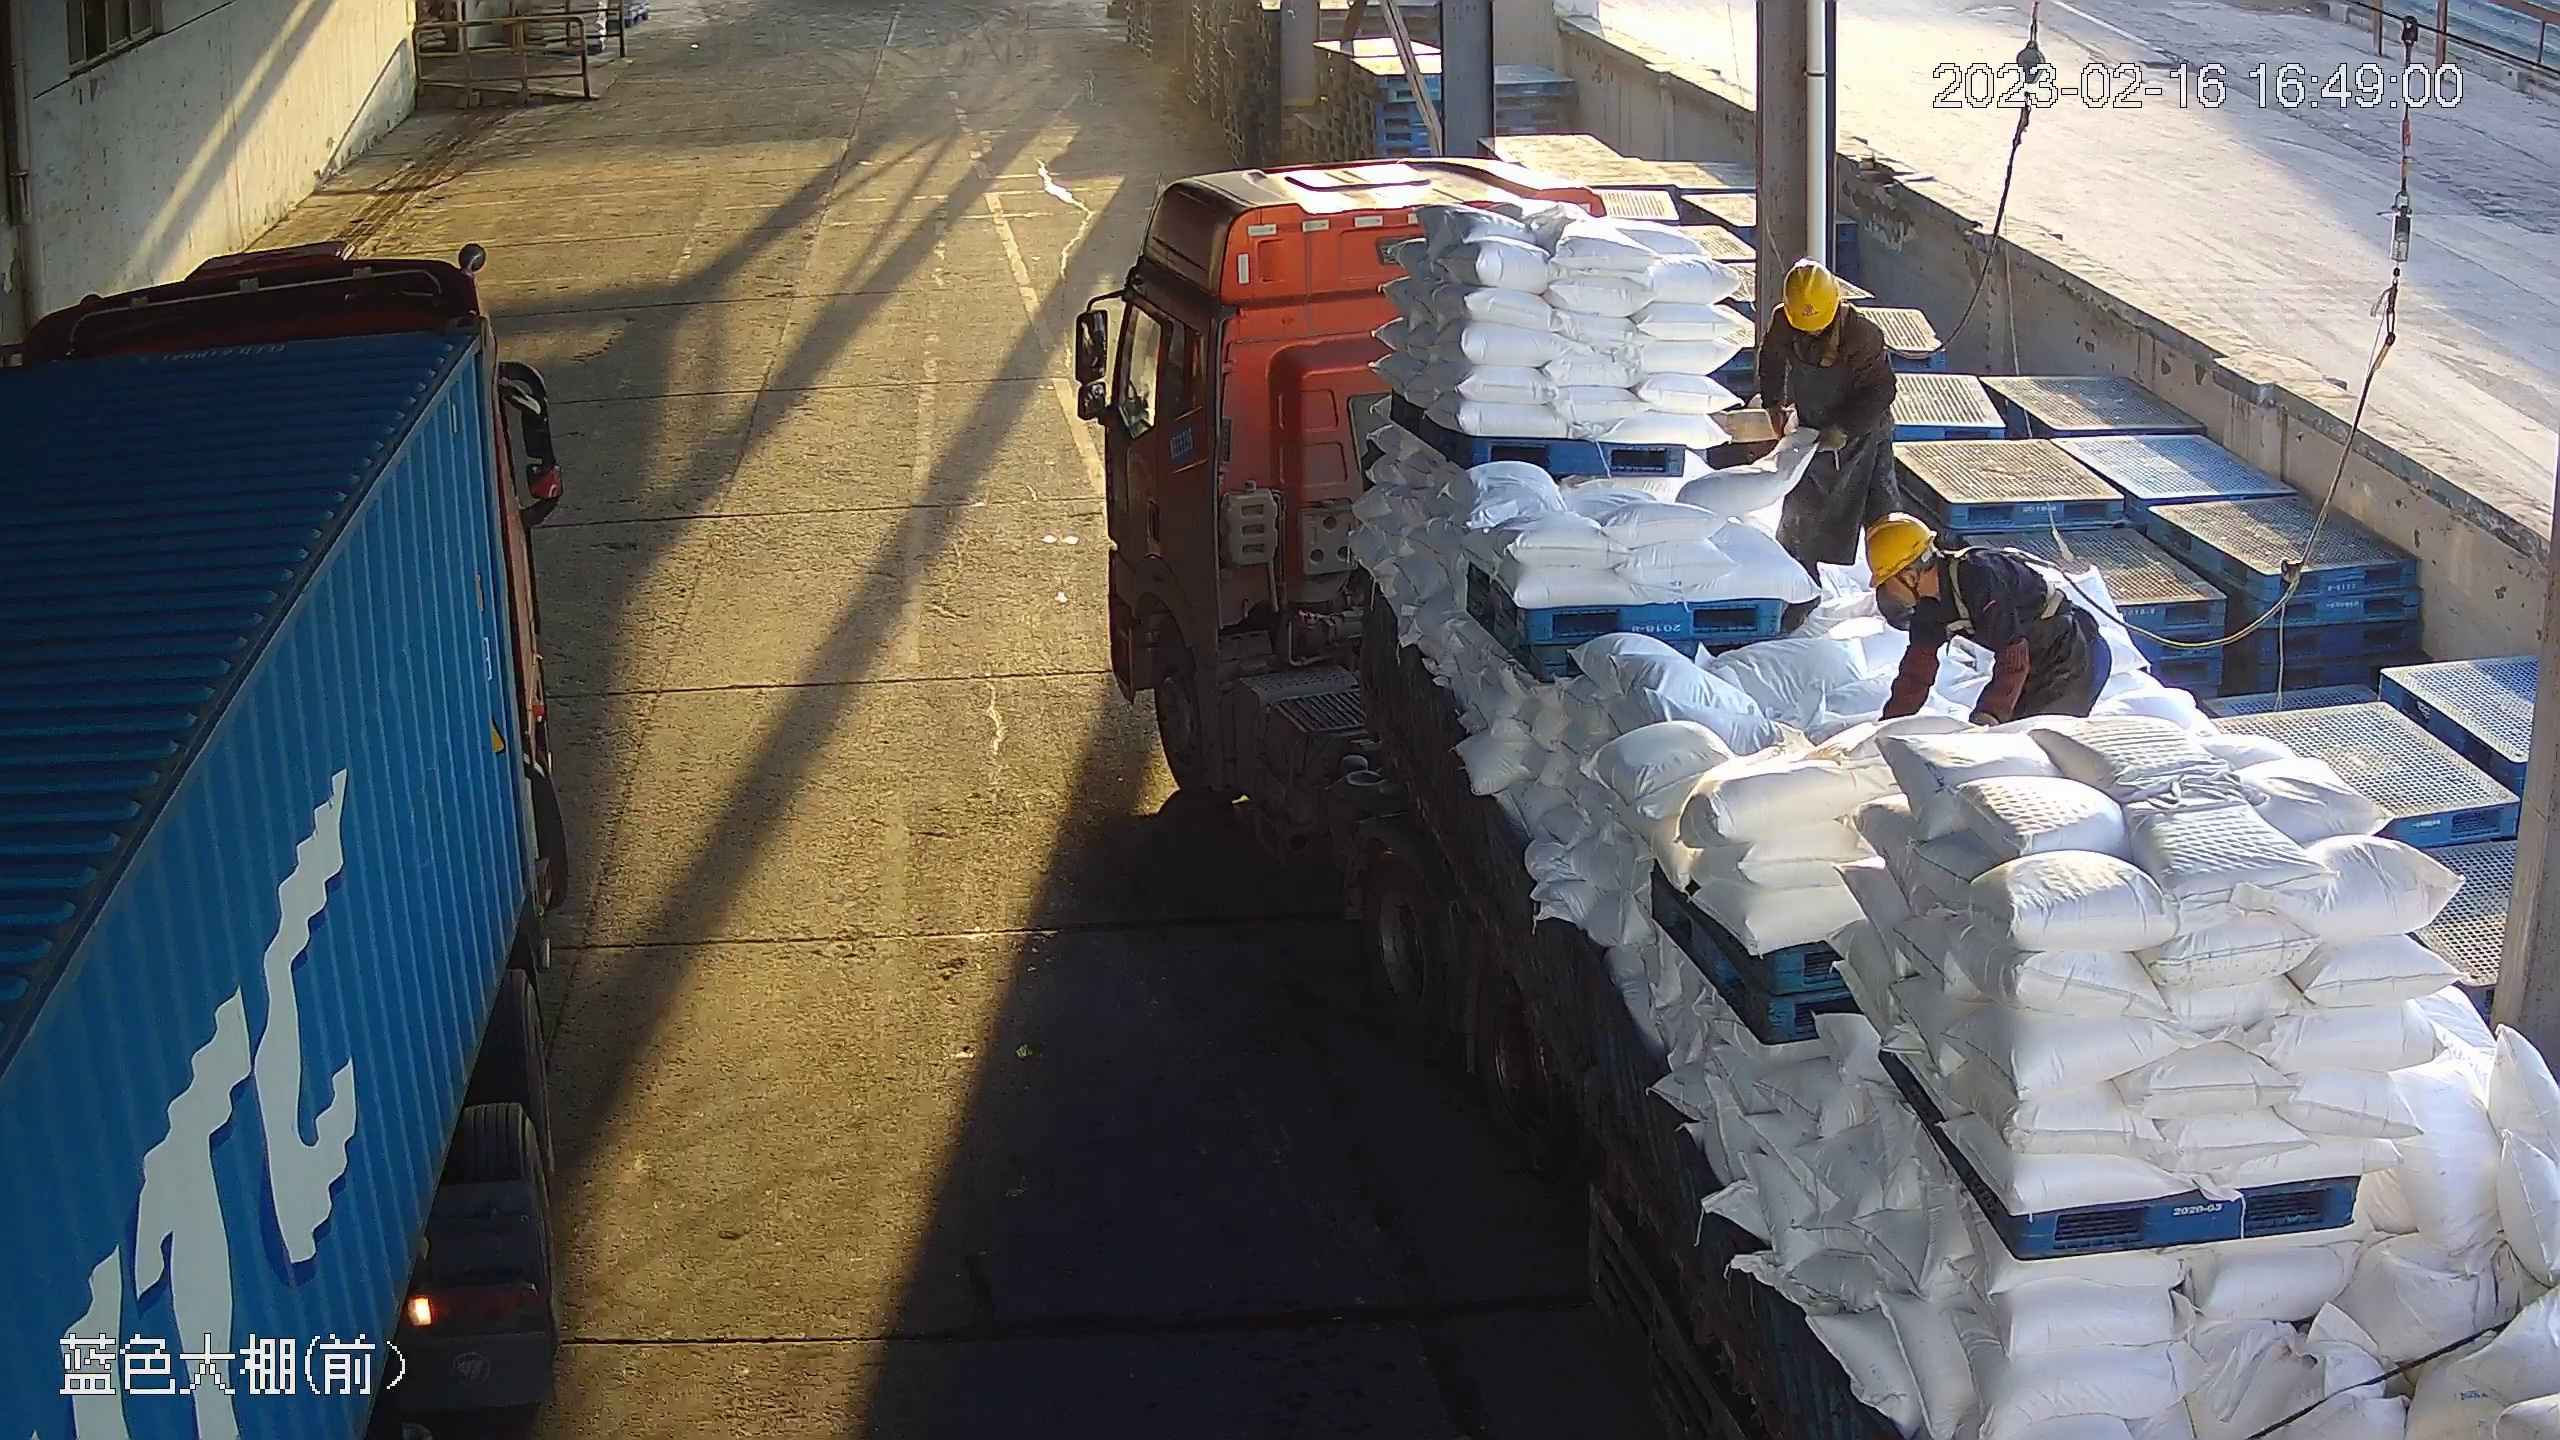belt: (1939, 547, 2063, 638), (1789, 303, 1850, 367)
head: (1867, 512, 2013, 624), (1762, 258, 1889, 362)
helmet: (1865, 512, 1939, 586), (1781, 258, 1841, 332)
people: (1865, 511, 2113, 726), (1758, 257, 1905, 587)
truck: (1070, 152, 2560, 1440), (1, 238, 564, 1438)
